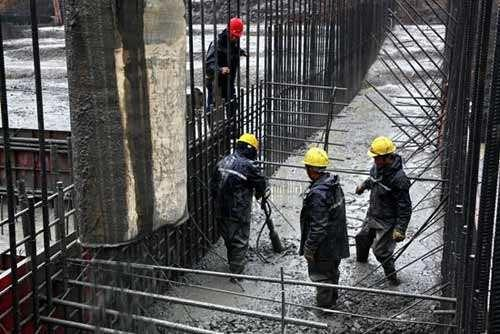Helmet: (367, 136, 397, 169), (304, 146, 328, 177), (235, 133, 260, 158)
